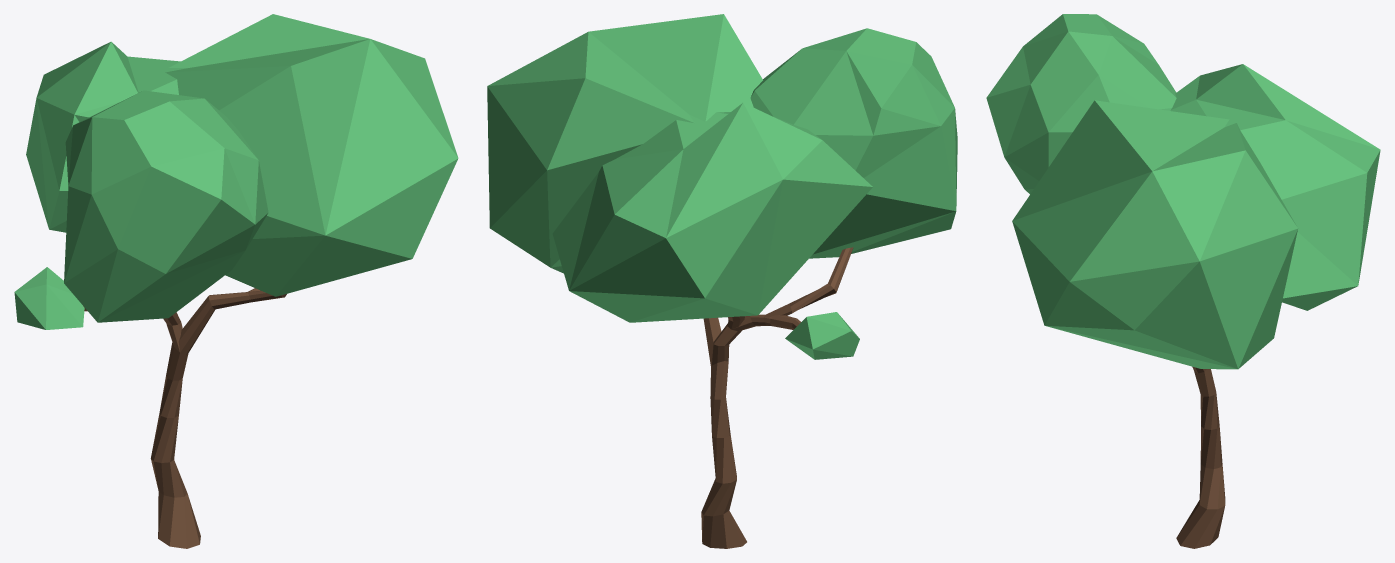
Rendered from tree_2.glb.
3 views of the same model, side by side, from view 1: azimuth 30°, elevation 25°; view 2: azimuth 150°, elevation 25°; view 3: azimuth 270°, elevation 25° (orthographic). The views are drawn at different scales.
Parts seen in each view (by area): view 1: Cube.002, Cube.003, Icosphere.003, Tree 2, Icosphere.004; view 2: Icosphere.003, Cube.002, Cube.003, Tree 2, Icosphere.004; view 3: Cube.002, Icosphere.003, Cube.003, Tree 2.
Boxes of the visible parts, x1,y1,x2,y2 form: Cube.002: [165, 14, 458, 296]; Cube.003: [64, 90, 268, 322]; Icosphere.003: [26, 41, 187, 232]; Tree 2: [83, 288, 286, 548]; Icosphere.004: [14, 267, 84, 329]; Icosphere.003: [552, 102, 872, 322]; Cube.002: [487, 14, 762, 273]; Cube.003: [750, 28, 957, 258]; Tree 2: [701, 247, 853, 548]; Icosphere.004: [785, 312, 859, 359]; Cube.002: [1012, 100, 1298, 369]; Icosphere.003: [1170, 64, 1380, 310]; Cube.003: [986, 14, 1176, 194]; Tree 2: [1176, 366, 1225, 548].
Bounding box in the file's own units: 4.84 × 5.54 × 4.18.
